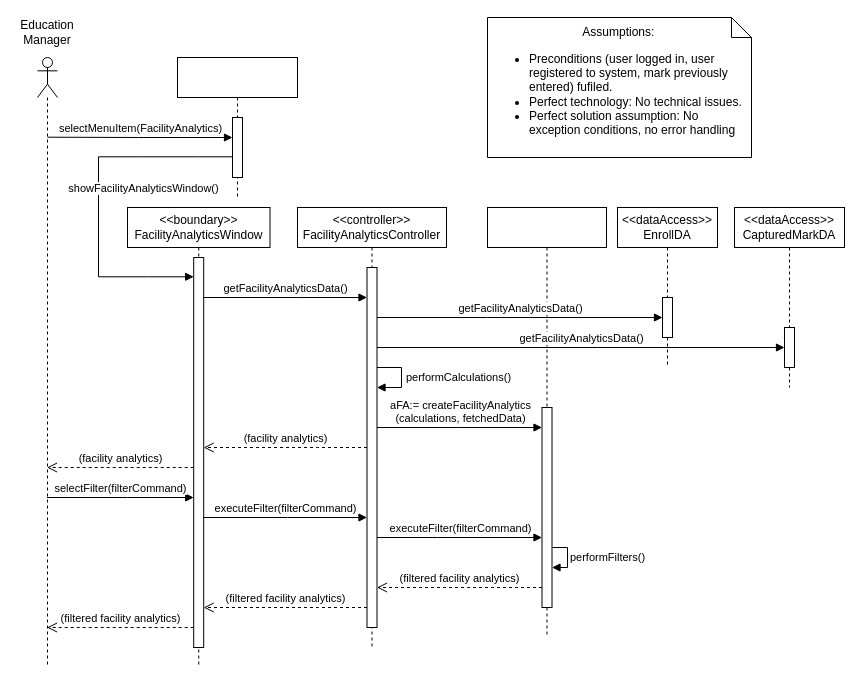
Some shapes in this 862 by 685 pixel diagram are drawn without their labels. The shapes that lost their labels are listed below. From the top down, each one's centre as x and y in pixels, then its label:
pixel 237 126: <<boundary>> HomePageWindow
pixel 546 422: aFA:FacilityAnalytics
